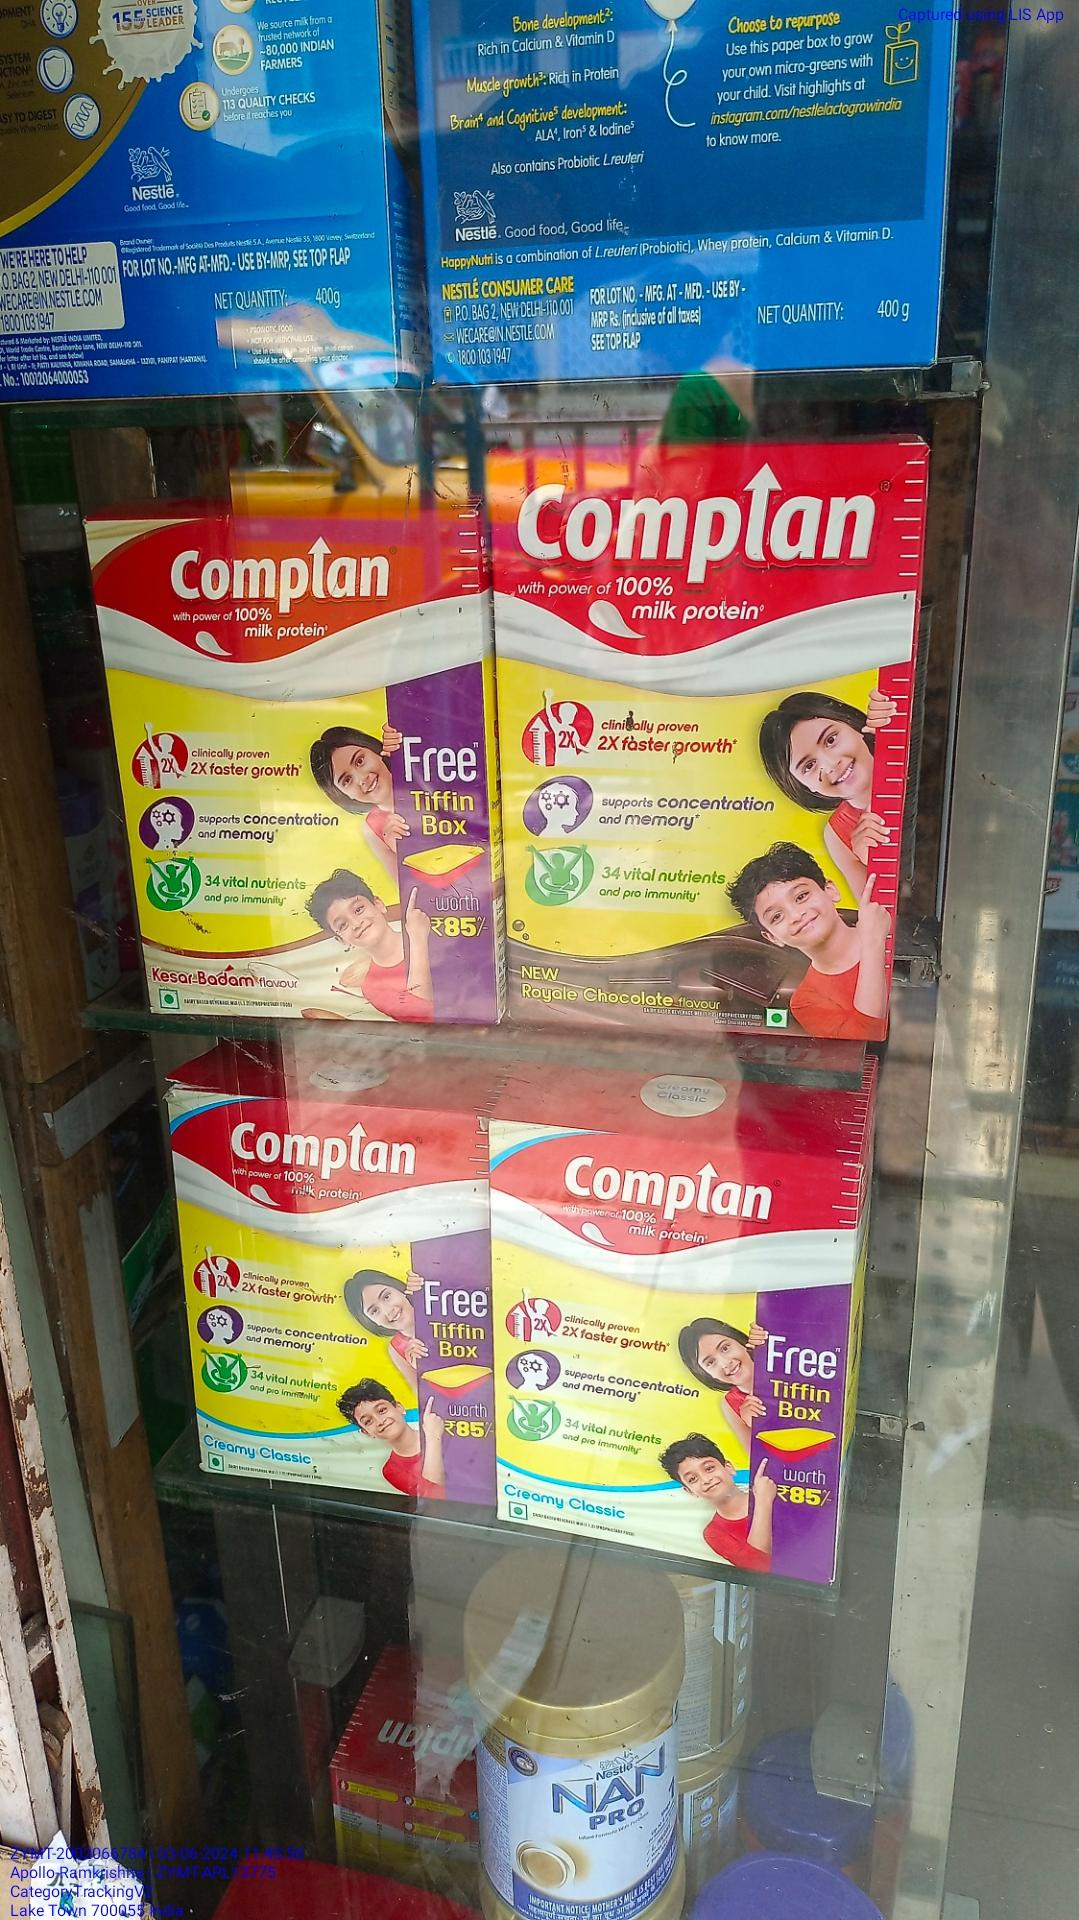COMPLAN_CREAMY_CLASSIC_500_G_PACK: (493, 1124, 842, 1582), (166, 1087, 476, 1499)
